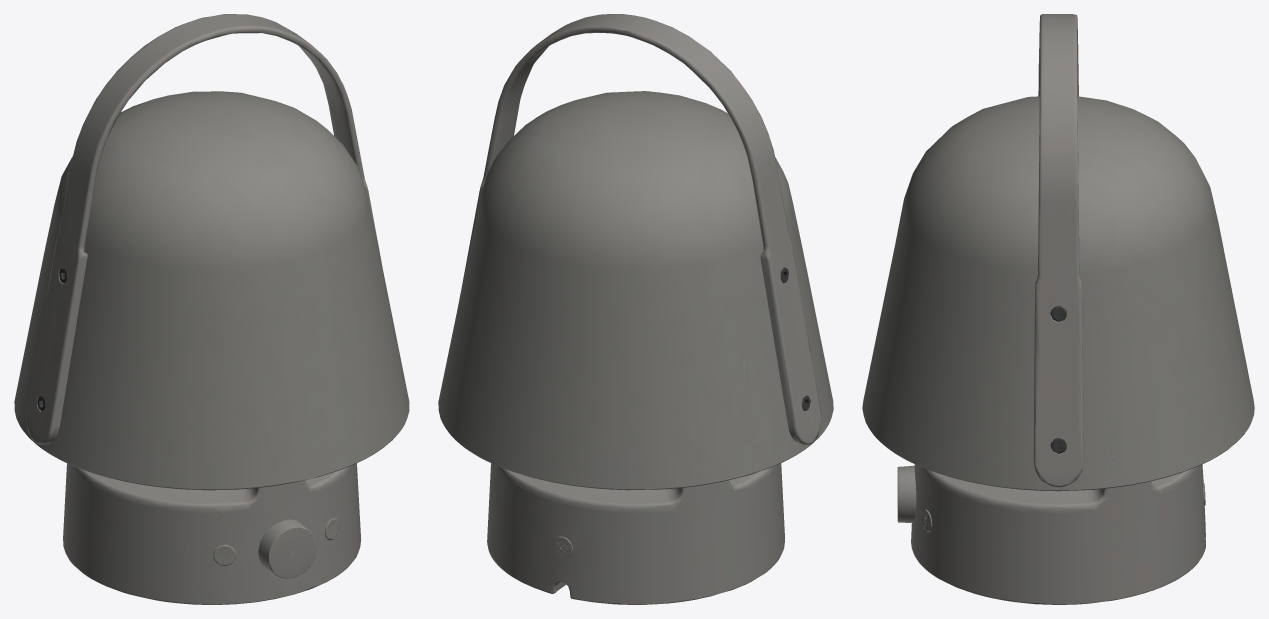
File: vappeby_lampa_z_gosnikiem_bluetooth_20510736.glb
The picture shows the model from 3 angles, left to right: view 1: azimuth 30°, elevation 25°; view 2: azimuth 150°, elevation 25°; view 3: azimuth 270°, elevation 25°; orthographic projection.
Parts seen in each view (by area): view 1: vappeby_lampa_z_gosnikiem_bluetooth_20510736; view 2: vappeby_lampa_z_gosnikiem_bluetooth_20510736; view 3: vappeby_lampa_z_gosnikiem_bluetooth_20510736.
Boxes of the visible parts, bbox=[...] form: vappeby_lampa_z_gosnikiem_bluetooth_20510736: bbox=[14, 14, 409, 604]; vappeby_lampa_z_gosnikiem_bluetooth_20510736: bbox=[438, 14, 833, 604]; vappeby_lampa_z_gosnikiem_bluetooth_20510736: bbox=[862, 14, 1254, 604].
Size of the model in its own units: 0.1783 by 0.2518 by 0.1726.
2 materials, 2 textured.
